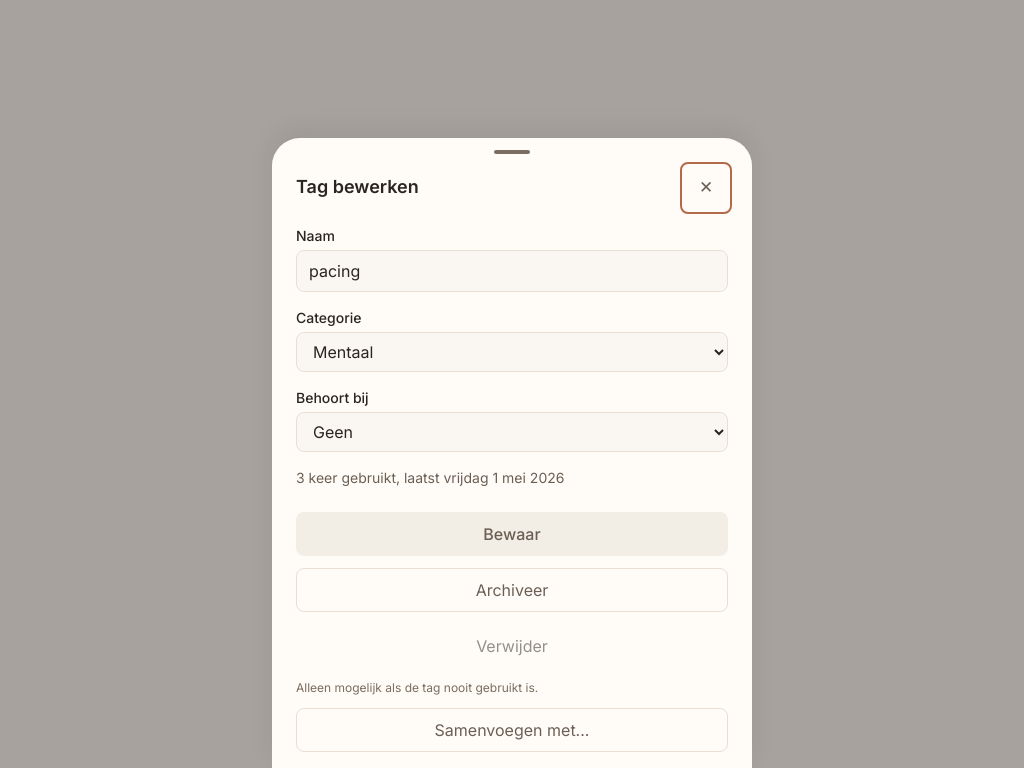
it: <TagFormSheet /> › Samenvoegen integration › test 46: tapping the button opens the merge picker
The image size is (1024, 768).
Click the button "Samenvoegen met..." at (512, 730), box [296,708,728,752]
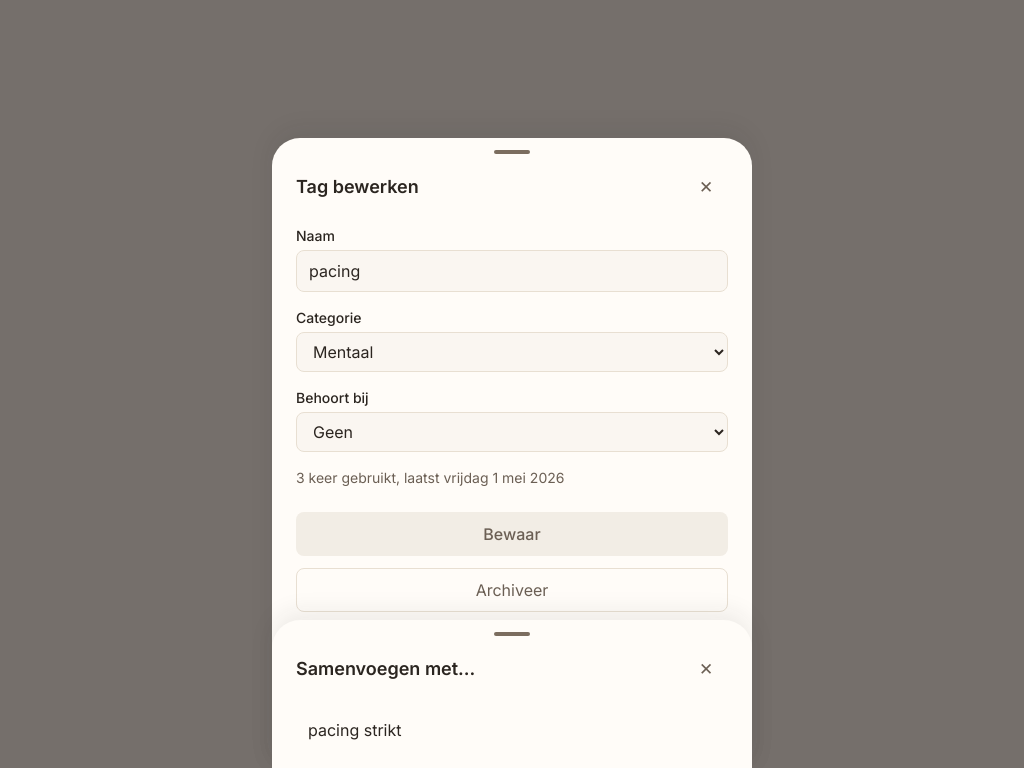
Check: the heading "Samenvoegen met..." is shown, box [296,655,475,683]
Check: the button "pacing strikt" is shown, box [296,708,728,752]
